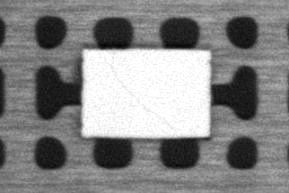DIE_CRACK: (109, 65, 178, 131)
